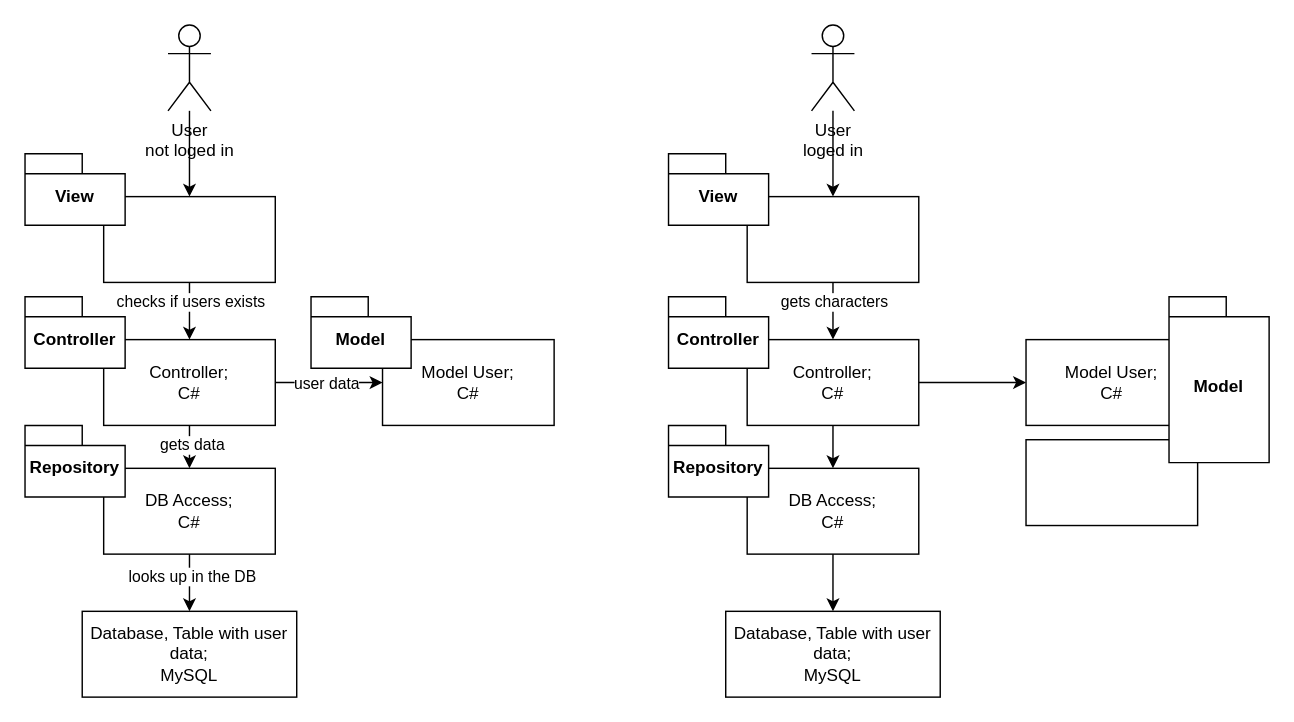
Image size: 1294x722. Some labels were removed from this diagram. Here are the shapes that lost their labels. From the top down, the centre of each, then its label:
At [188,238]: "Login; .NET WPF & C#".
At [832,238]: "MainMenu; .NET WPF & C#".
At [1111,482]: "Model Character; C#".
